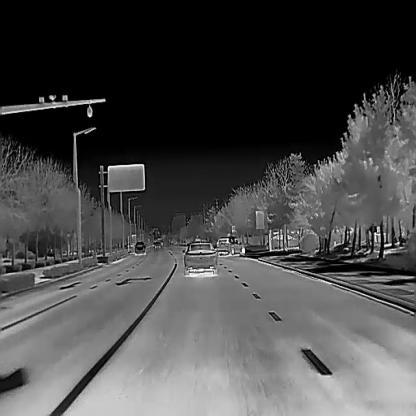car: (183, 242, 216, 275), (217, 236, 245, 254), (265, 233, 297, 247), (134, 240, 145, 253), (153, 241, 161, 250)
